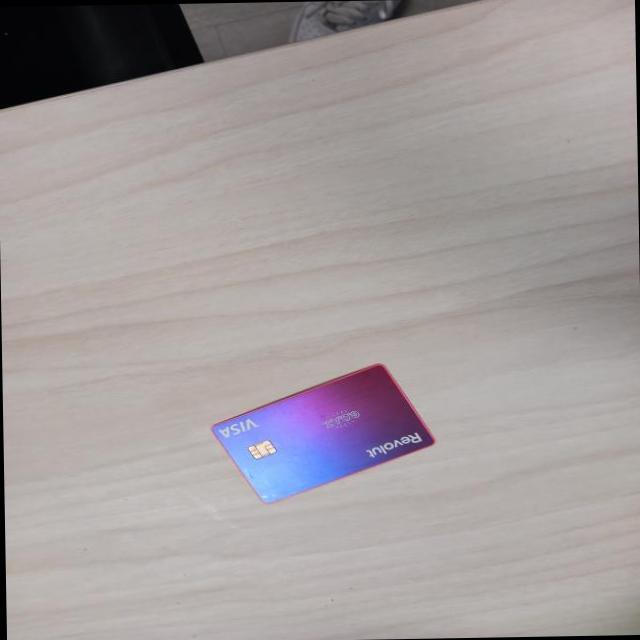card: (213, 362, 430, 505)
